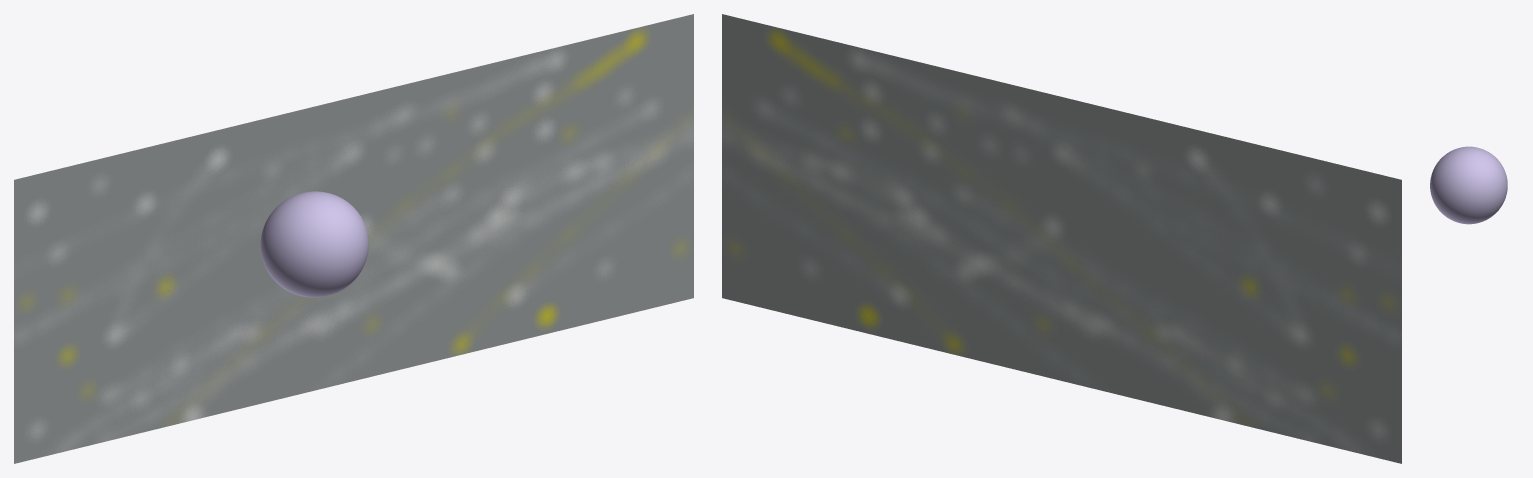
The model's file is solar.glb.
3 views of the same model, side by side, from view 1: azimuth 30°, elevation 25°; view 2: azimuth 150°, elevation 25°; view 3: azimuth 270°, elevation 25° (orthographic). The views are drawn at different scales.
Visible parts, largest first — view 1: mesh_id1, mesh_id27; view 2: mesh_id1; view 3: mesh_id27.
Part boxes in pixels (<box>): mesh_id1: <box>14,14,693,463</box>; mesh_id27: <box>260,191,368,297</box>; mesh_id1: <box>722,14,1401,463</box>; mesh_id27: <box>1430,146,1507,224</box>.
Size of the model in its own units: 1.58 by 0.629 by 0.2441.
2 materials, 2 textured.
